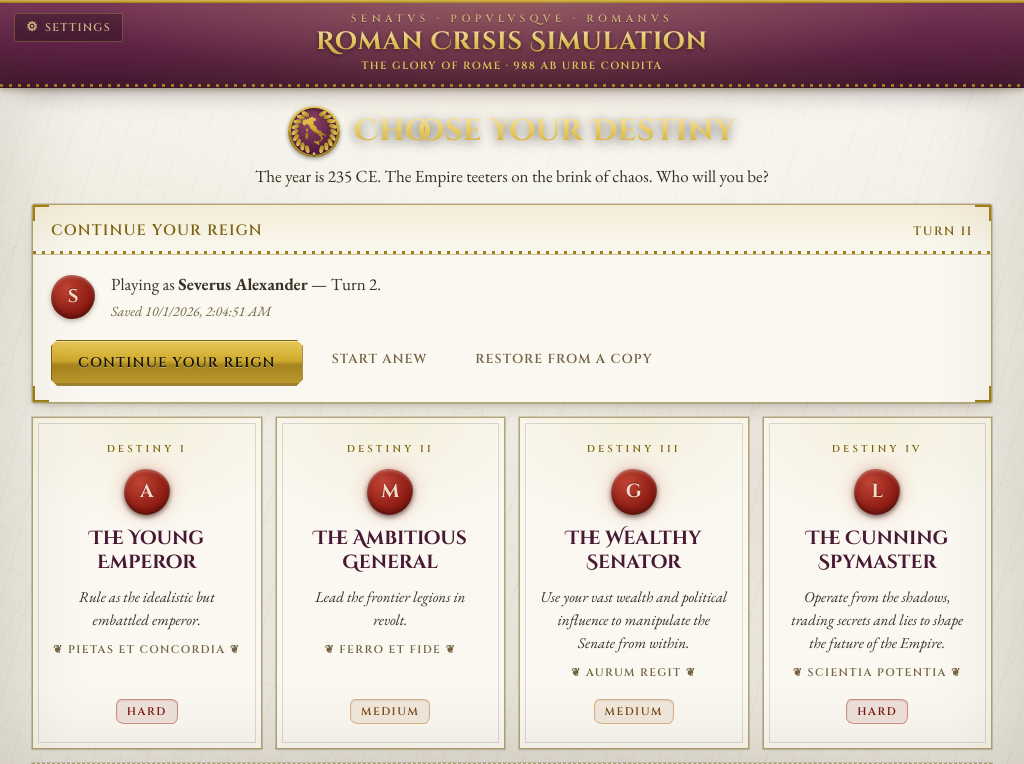
Test: the game screen › single keys do nothing once the player turns them off; Ctrl+K still works
The width and height of the screenshot is (1024, 764).
Click the button "Continue Your Reign".
click(177, 363)  # box [51,340,303,386]
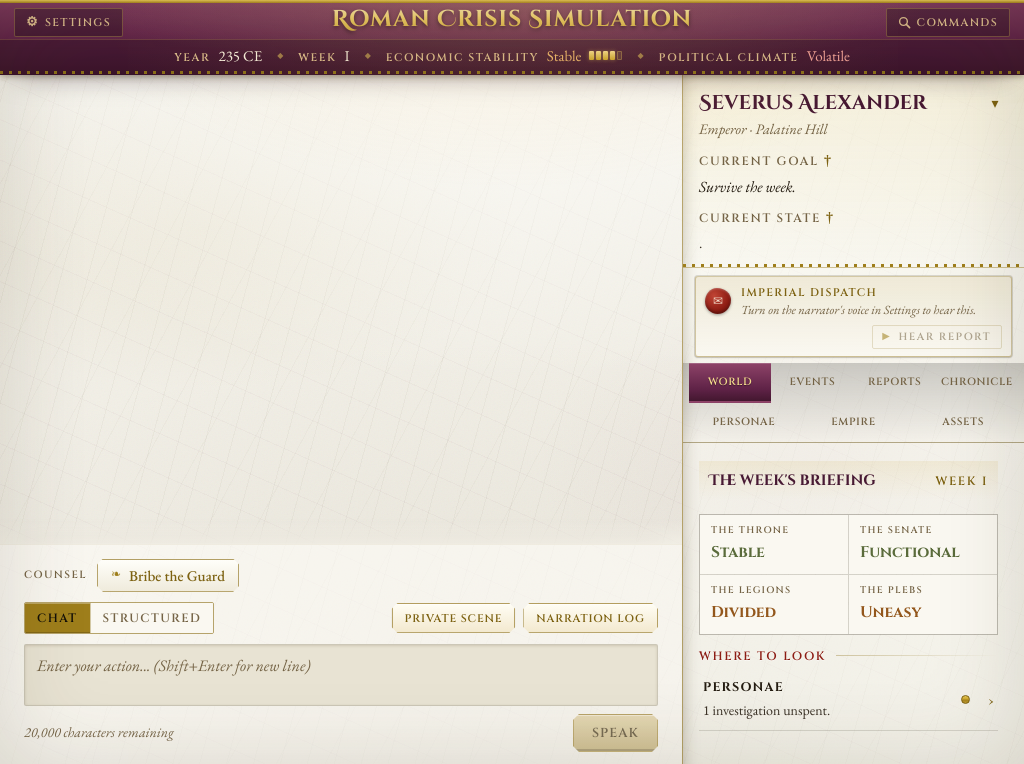
Check: the text box with id "chat-input" is shown, box [24,644,658,706]
Press 3
Press k
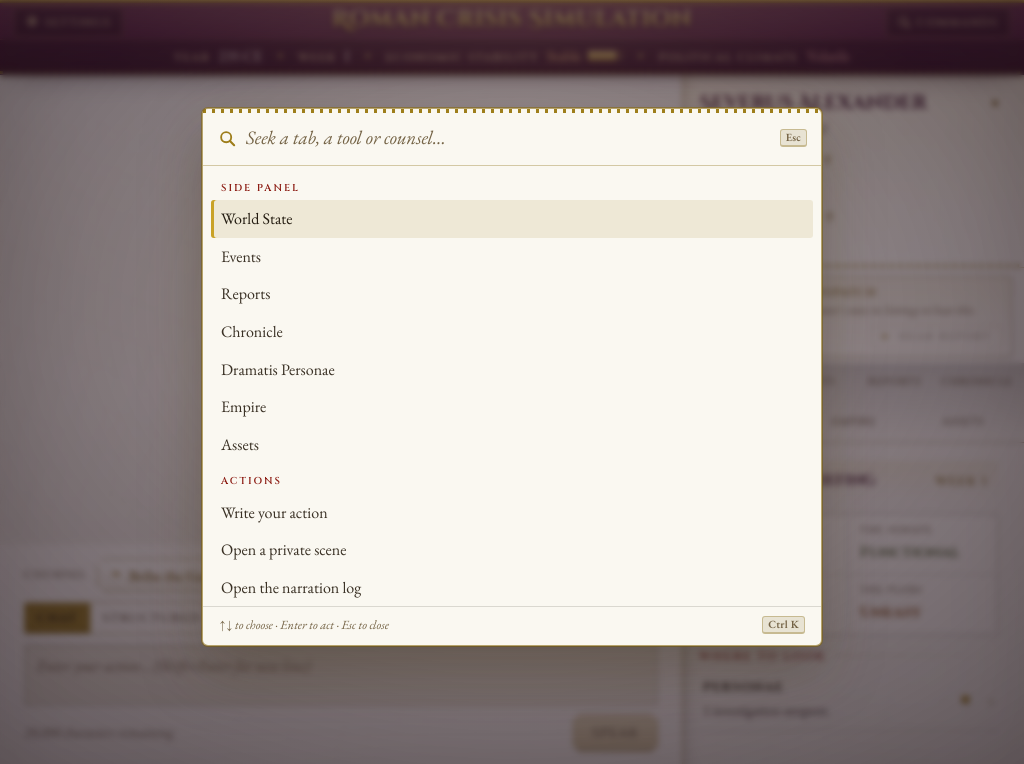
Check: the dropdown with placeholder "Seek a tab, a tool or counsel…" is shown, box [246,124,770,152]
